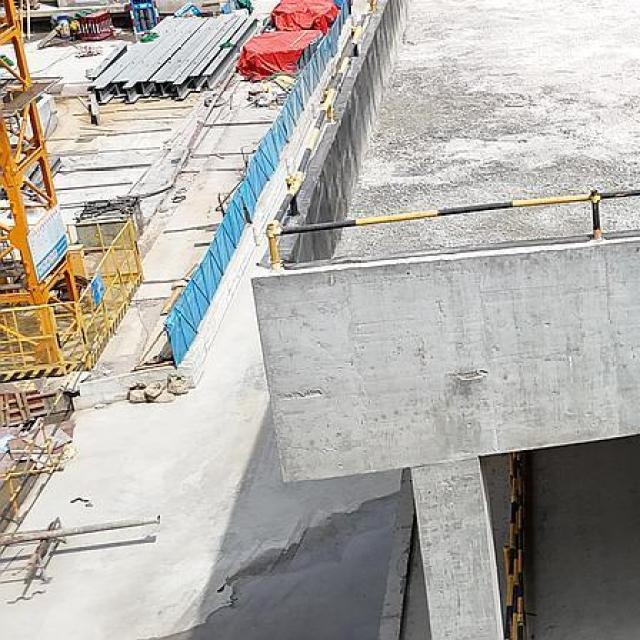edge_guardrail: (264, 0, 640, 267), (502, 451, 527, 640)
